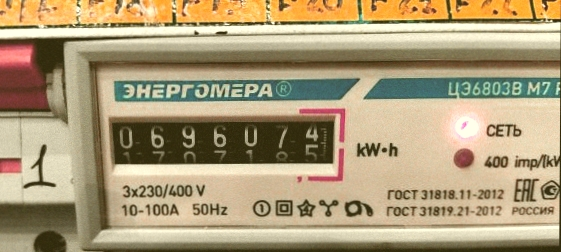0: (116, 124, 134, 149), (242, 121, 258, 148)
4: (304, 121, 318, 142)
5: (304, 143, 318, 162)
6: (147, 123, 165, 148), (211, 121, 227, 148)
7: (273, 123, 289, 149)
9: (179, 123, 196, 149)
screen: (102, 104, 348, 182)
